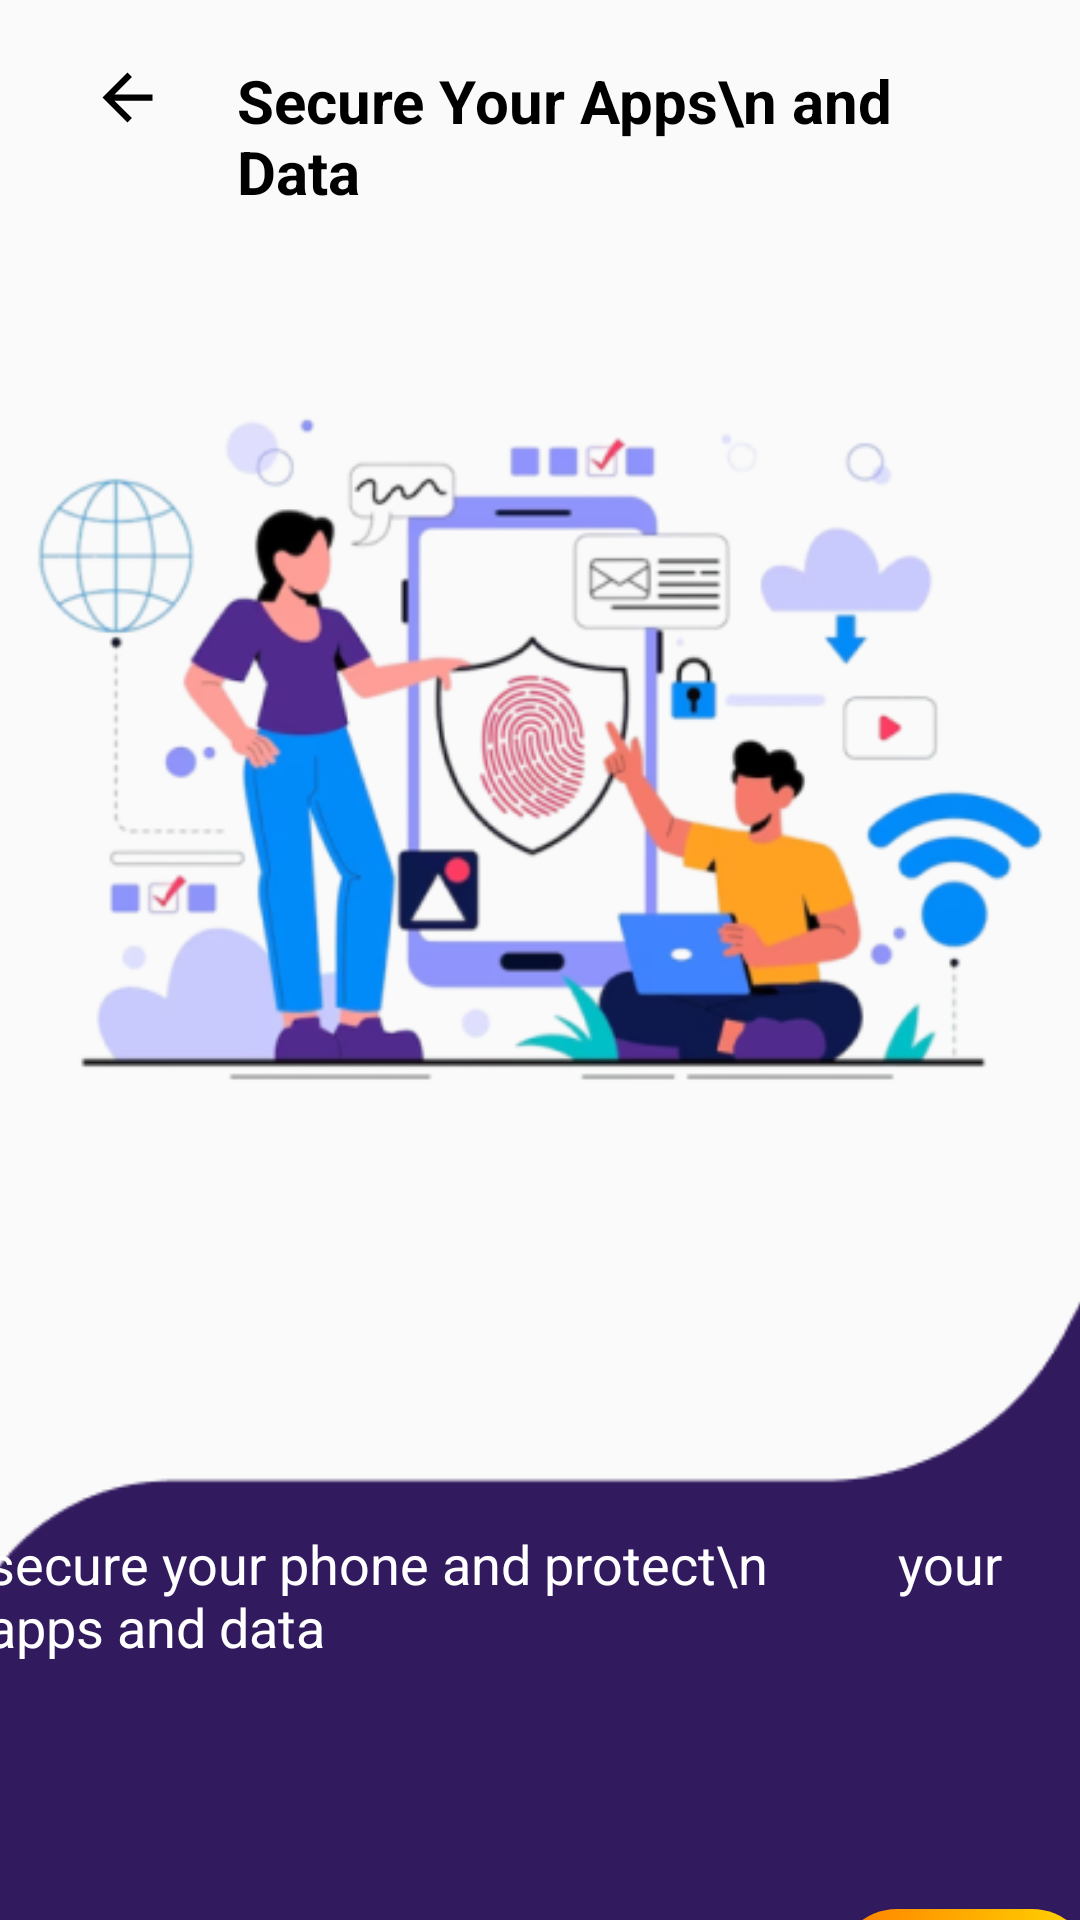

Icons on this 1080 x 1920 Android screen, each with the point to tap as [x,y]:
Back Arrow: [127,97]
